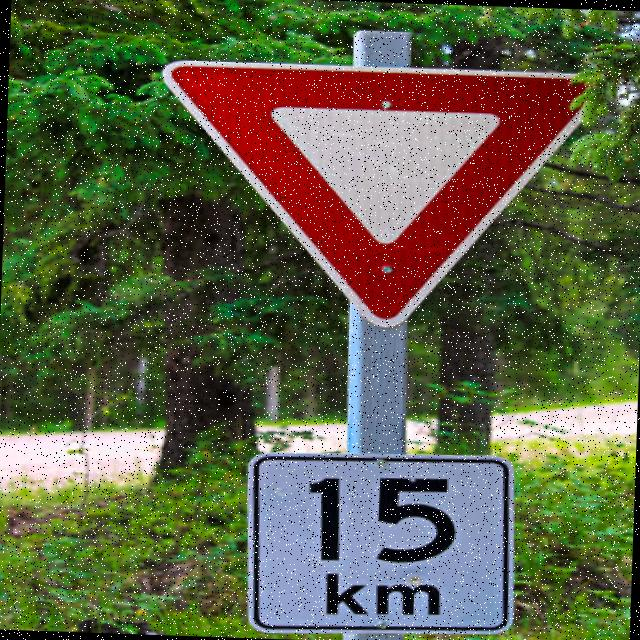give_way: (146, 36, 617, 339)
